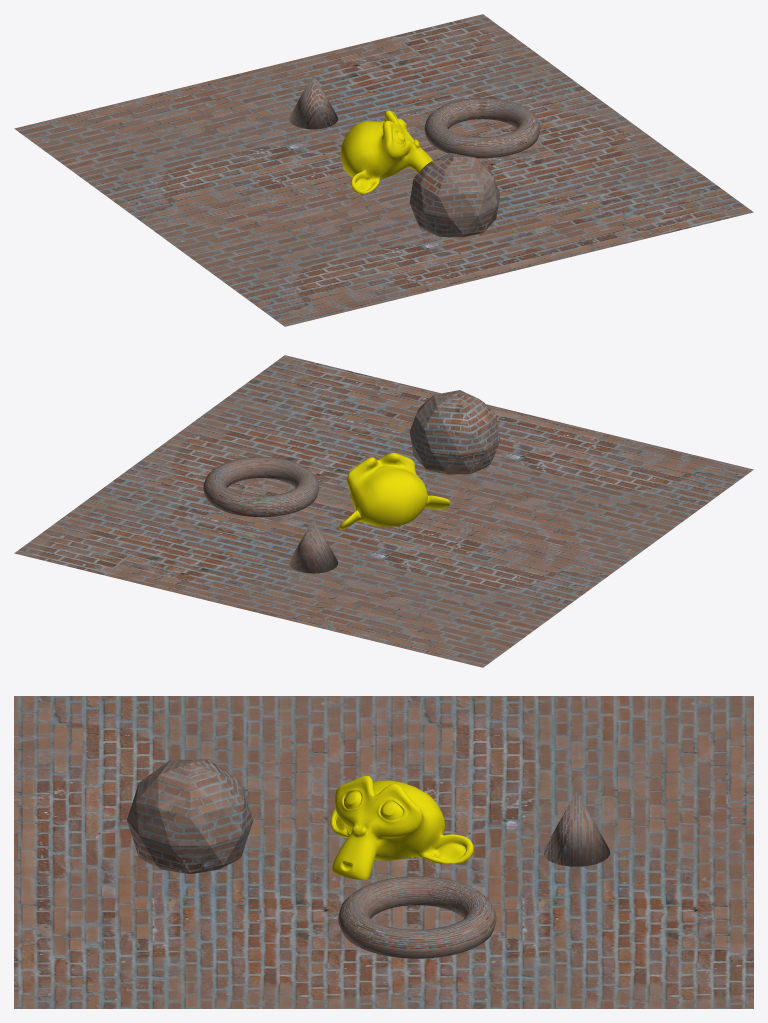
3 views of the same model, one above another, from view 1: azimuth 30°, elevation 25°; view 2: azimuth 150°, elevation 25°; view 3: azimuth 270°, elevation 25° (orthographic). The views are drawn at different scales.
Visible parts, largest first — view 1: Plane, Icosphere, Torus, Suzanne, Cone; view 2: Plane, Icosphere, Suzanne, Torus, Cone; view 3: Plane, Icosphere, Suzanne, Torus, Cone.
Boxes of the visible parts, x1,y1,x2,y2 form: Plane: (14, 14, 753, 326); Icosphere: (409, 153, 500, 237); Torus: (424, 98, 540, 158); Suzanne: (340, 110, 432, 194); Cone: (289, 74, 338, 129); Plane: (14, 355, 753, 667); Icosphere: (409, 390, 500, 474); Suzanne: (339, 453, 450, 529); Torus: (203, 457, 318, 517); Cone: (289, 518, 338, 573); Plane: (14, 696, 753, 1008); Icosphere: (127, 759, 253, 873); Suzanne: (330, 775, 473, 879); Torus: (338, 876, 496, 958); Cone: (542, 791, 610, 866).
Bounding box in the file's own units: 11.68 × 2 × 11.68.
2 materials, 1 textured.
